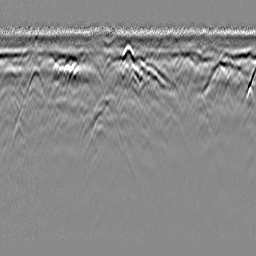cavity: (122, 41, 135, 63)
